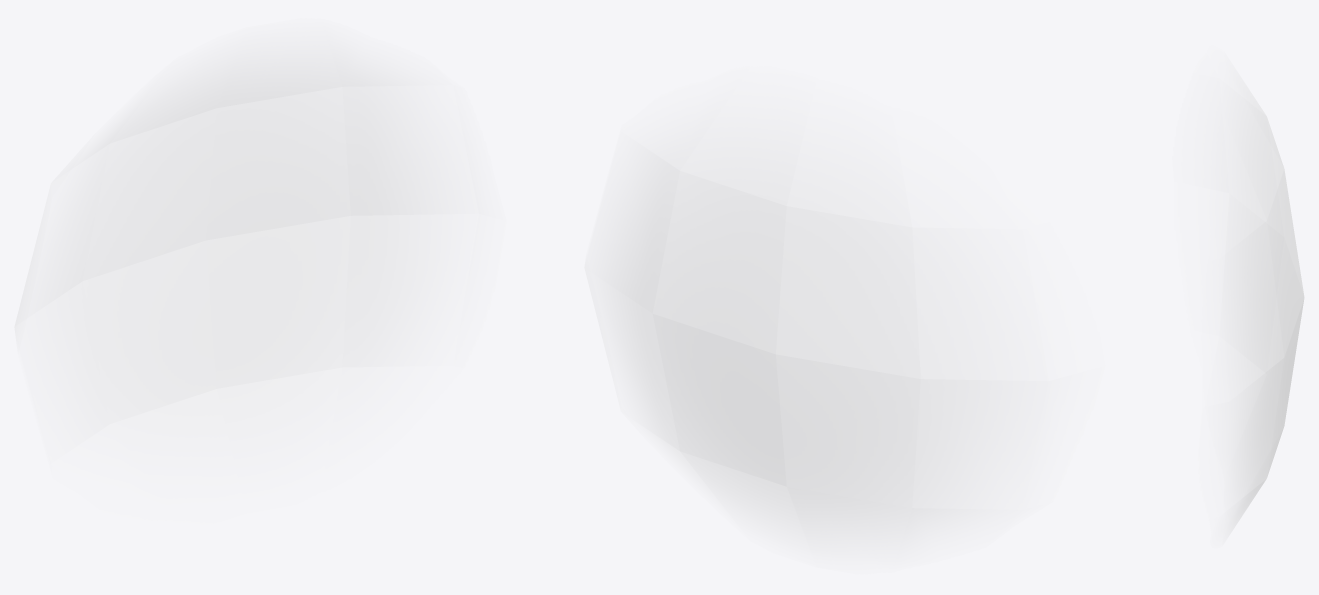
The model's file is HaloSphere.glb.
3 views of the same model, side by side, from view 1: azimuth 30°, elevation 25°; view 2: azimuth 150°, elevation 25°; view 3: azimuth 270°, elevation 25° (orthographic). The views are drawn at different scales.
Size of the model in its own units: 0.44 by 0.44 by 0.116.
Materials: 1 (1 with a texture image).
